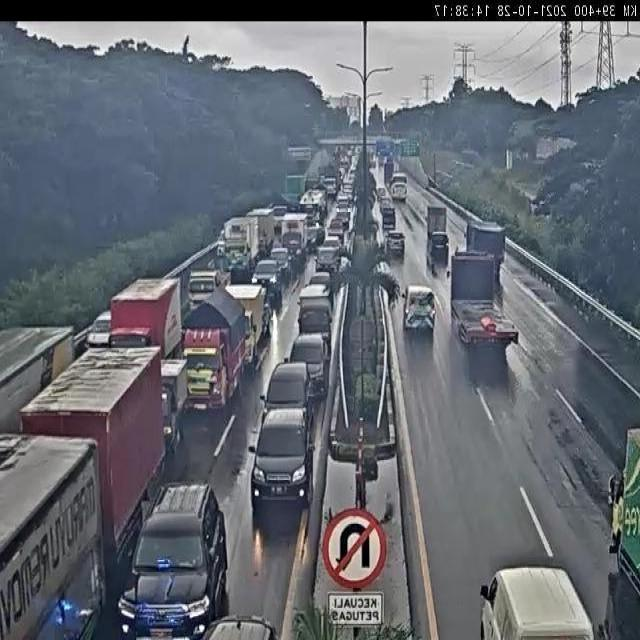Car: (115, 478, 228, 640), (246, 407, 316, 513), (283, 331, 333, 400), (258, 362, 312, 424), (250, 257, 282, 303), (427, 230, 451, 263), (384, 229, 406, 257)
Truck: (0, 340, 164, 640), (478, 559, 597, 640), (178, 279, 248, 415), (105, 277, 182, 380), (449, 245, 521, 352), (605, 421, 640, 640), (464, 218, 508, 281), (186, 266, 236, 315), (222, 216, 260, 274), (276, 212, 308, 270), (424, 204, 451, 248)
Van: (399, 285, 437, 336)
